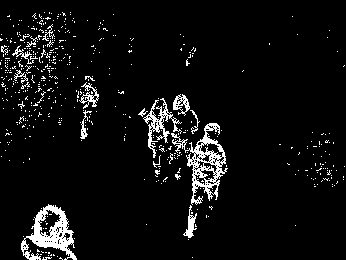person: (186, 124, 226, 242), (142, 97, 171, 183), (169, 91, 198, 171), (77, 76, 99, 143)
